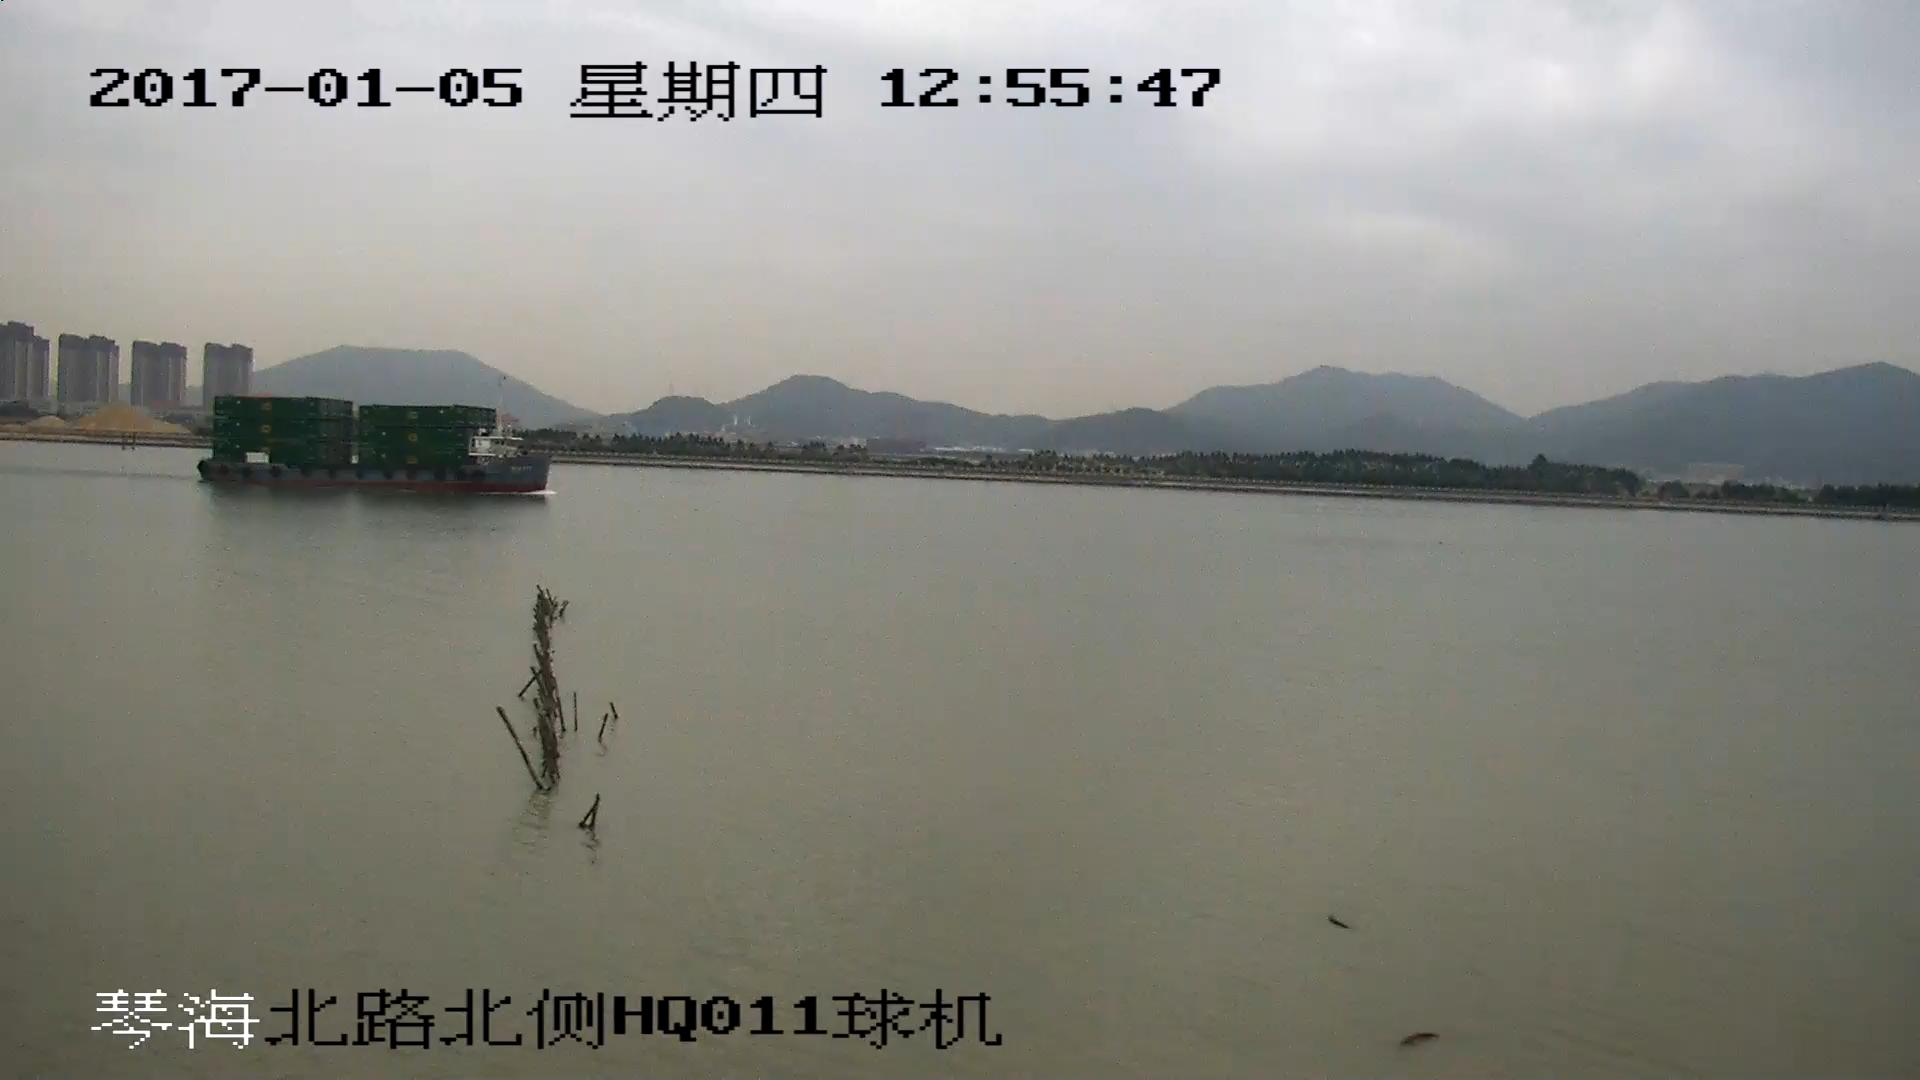container ship: (191, 395, 548, 490)
